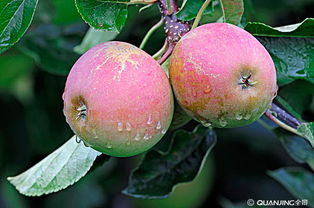apple: (62, 40, 177, 159), (168, 21, 276, 130)
